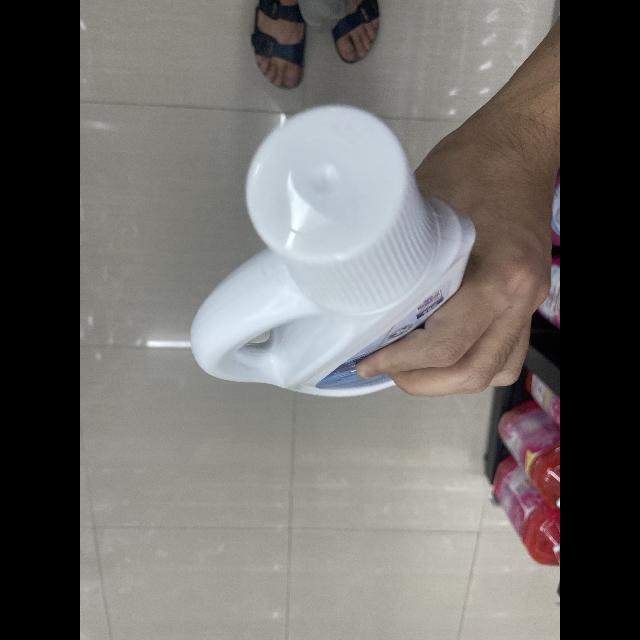chemical_plastic_gallon: (184, 106, 486, 410)
